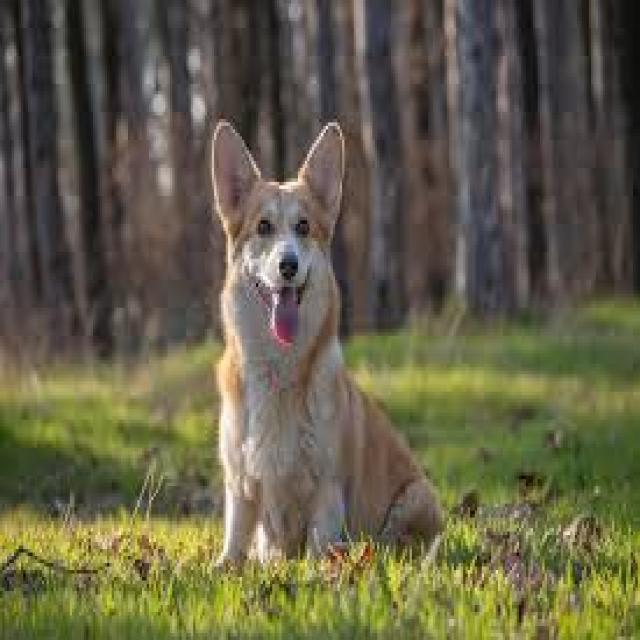CORGI: (181, 96, 462, 554)
